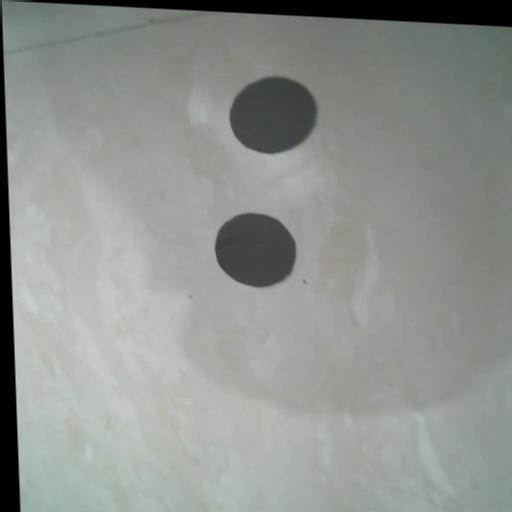pothole: (226, 74, 319, 156), (212, 210, 296, 289)
